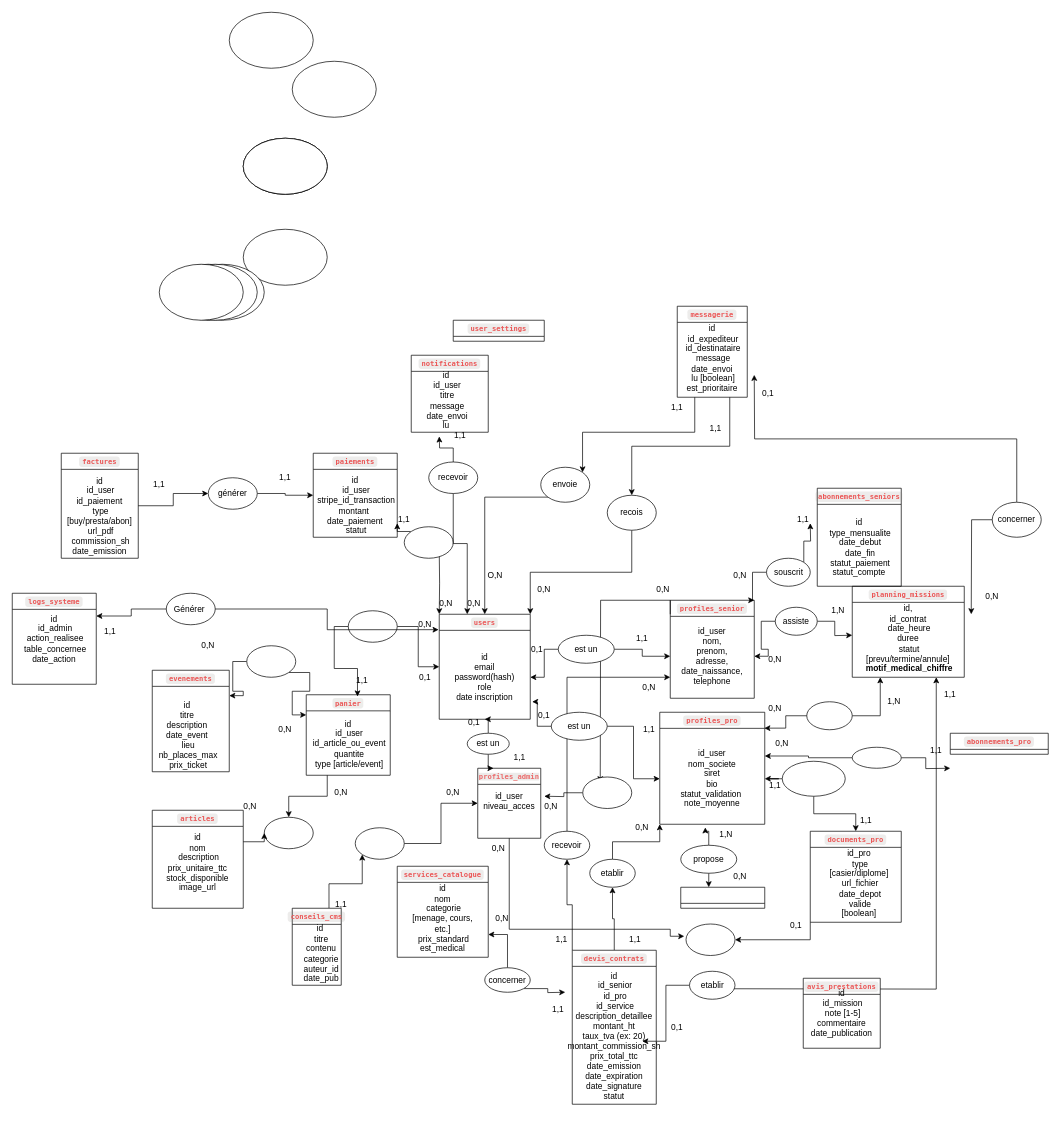
The diagram is 1061 pixels wide and 1124 high, and some of its shapes have lost their labels. Here are the shapes that lost their labels. From the top down, the centre of each, then its label:
At [428,542]: "effectuer".
At [372,626]: "Posséder".
At [271,661]: "Contenir".
At [829,715]: "effectue".
At [876,757]: "soucrire".
At [607,792]: "contacter".
At [813,778]: "possede".
At [288,833]: "Réserver".
At [379,843]: "Rédiger".
At [722,897]: "services_pro".
At [710,939]: "valide".
